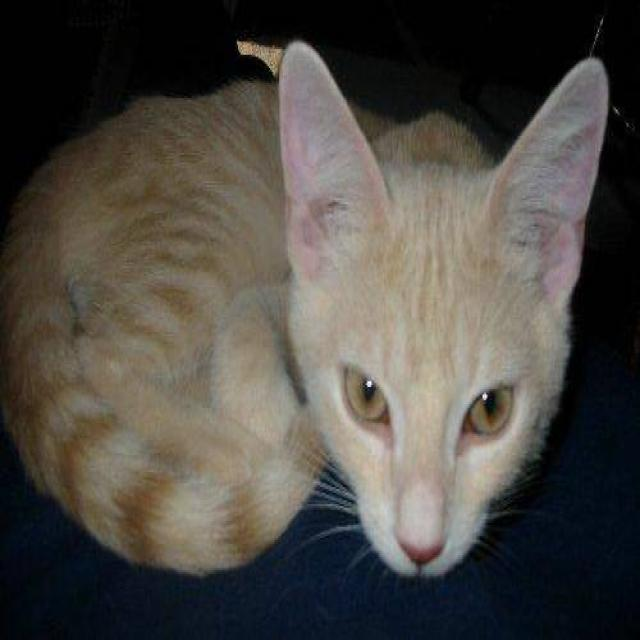cat: (0, 37, 609, 581)
